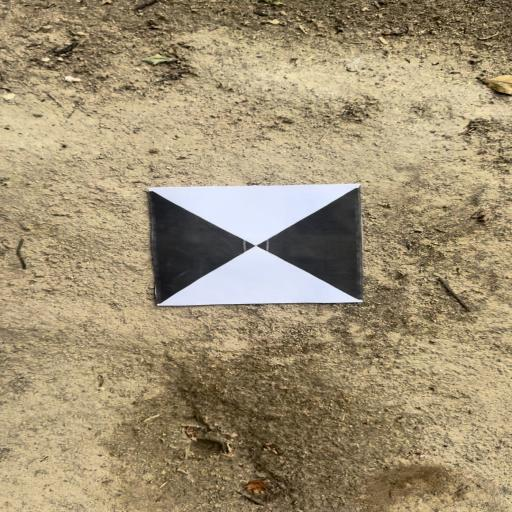target: (147, 187, 364, 302)
